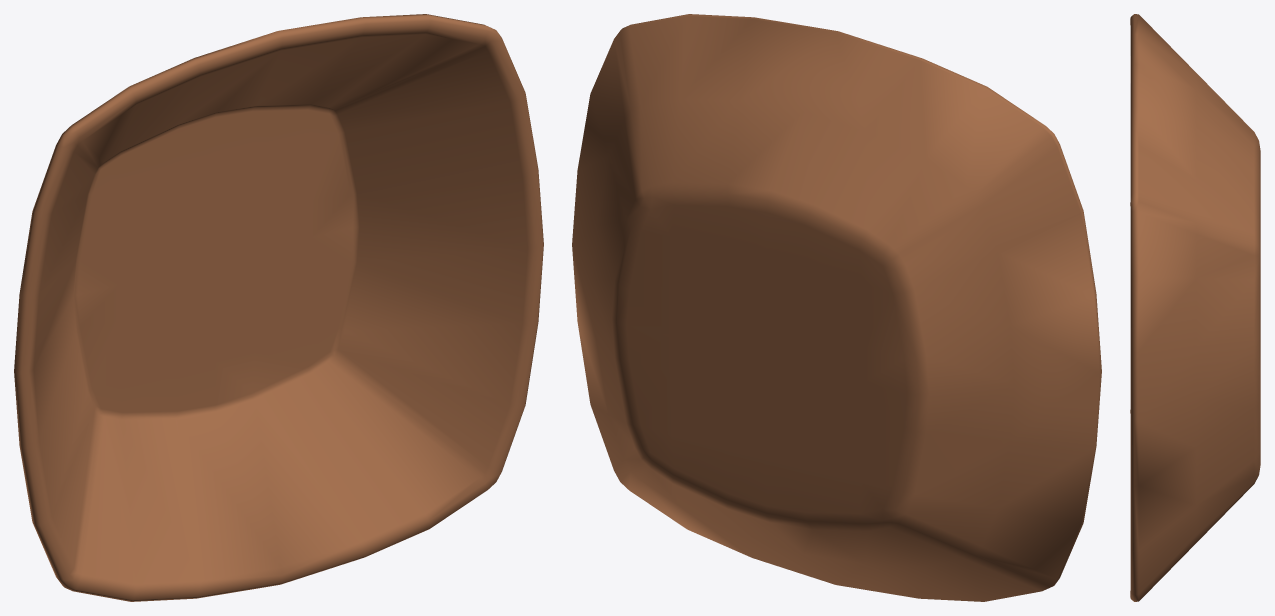
The model's file is MeshBowl_19_0_GeomSubset_0.obj.
3 renders of one model, left to right at view 1: azimuth 30°, elevation 25°; view 2: azimuth 150°, elevation 25°; view 3: azimuth 270°, elevation 25°, orthographic. The views are drawn at different scales.
Parts seen in each view (by area): view 1: MeshBowl_19_0_GeomSubset_0; view 2: MeshBowl_19_0_GeomSubset_0; view 3: MeshBowl_19_0_GeomSubset_0.
Part boxes in pixels (x1=…): MeshBowl_19_0_GeomSubset_0: x1=14, y1=14, x2=543, y2=601; MeshBowl_19_0_GeomSubset_0: x1=572, y1=14, x2=1101, y2=601; MeshBowl_19_0_GeomSubset_0: x1=1130, y1=14, x2=1260, y2=601.
Bounding box in the file's own units: 0.2157 × 0.2157 × 0.0522.
